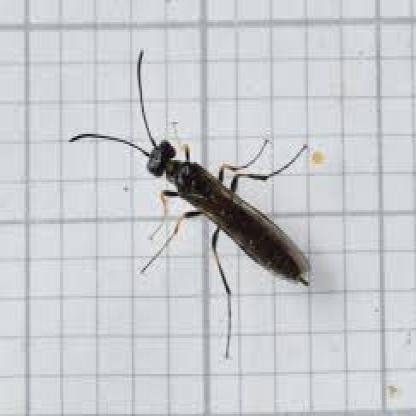sawfly: (73, 51, 326, 369)
